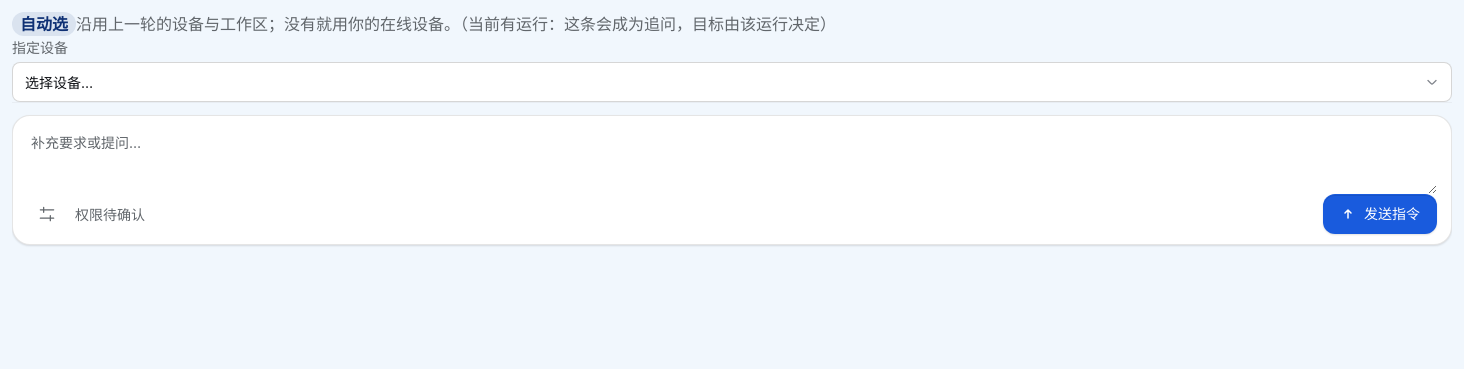
Test: 执行目标条（⑥c） › 有活跃 Run 时**明说目标暂不生效**（服务端只带 text 走追问，会忽略目标字段）
expect the text "沿用上一轮的设备与工作区；没有就用你的在线设备。（当前有运行：这条会成为追问，目标由该运行决定）" is shown: met, box [76, 14, 836, 34]
Click the button named "指定设备": click(59, 82) [12, 62, 1452, 102]
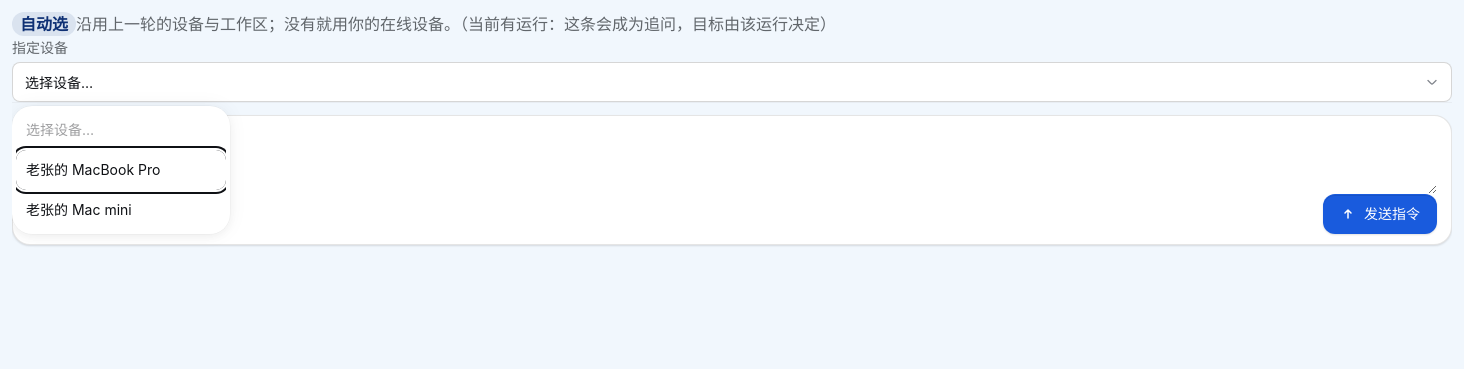
Click the menu item "老张的 MacBook Pro": click(121, 170) [16, 150, 226, 190]
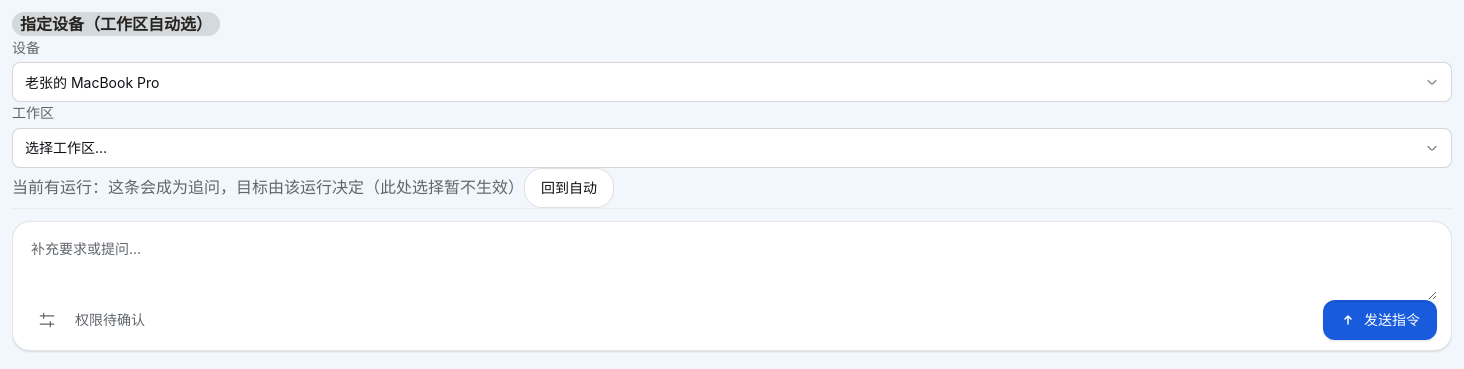
expect the text "当前有运行：这条会成为追问，目标由该运行决定（此处选择暂不生效）" is shown: met, box [12, 177, 524, 197]
